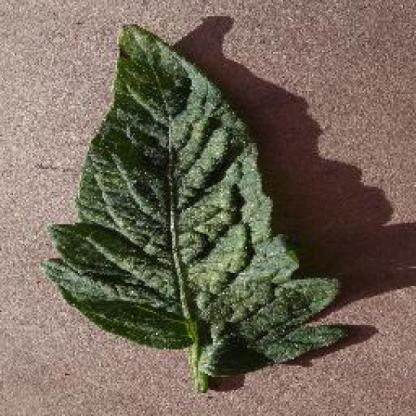Tomato_Spider_Mites: (47, 25, 350, 366)
